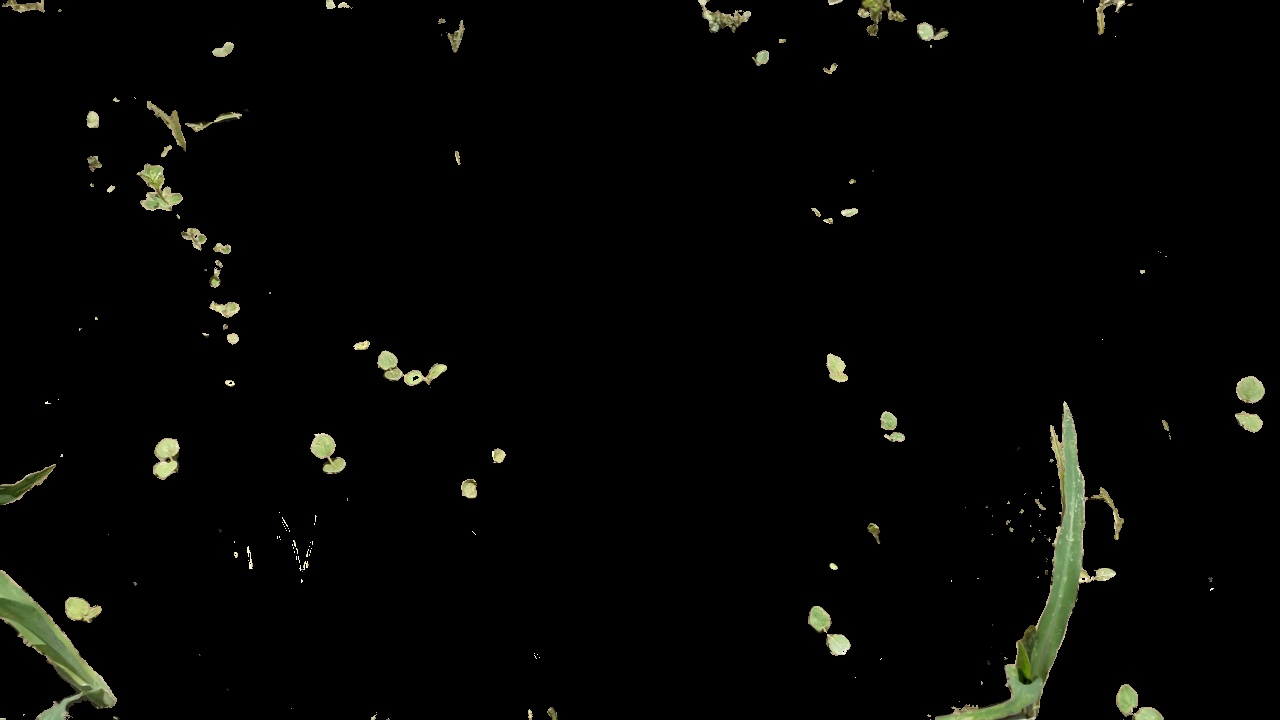crop: (934, 392, 1107, 720)
weed: (376, 348, 455, 393), (135, 160, 188, 219), (683, 2, 762, 37), (1112, 673, 1170, 720), (303, 425, 350, 482), (809, 604, 855, 658), (1237, 362, 1269, 439), (149, 434, 184, 485), (61, 593, 108, 623), (916, 15, 953, 51), (878, 401, 908, 445), (826, 349, 853, 390), (178, 222, 208, 255)
